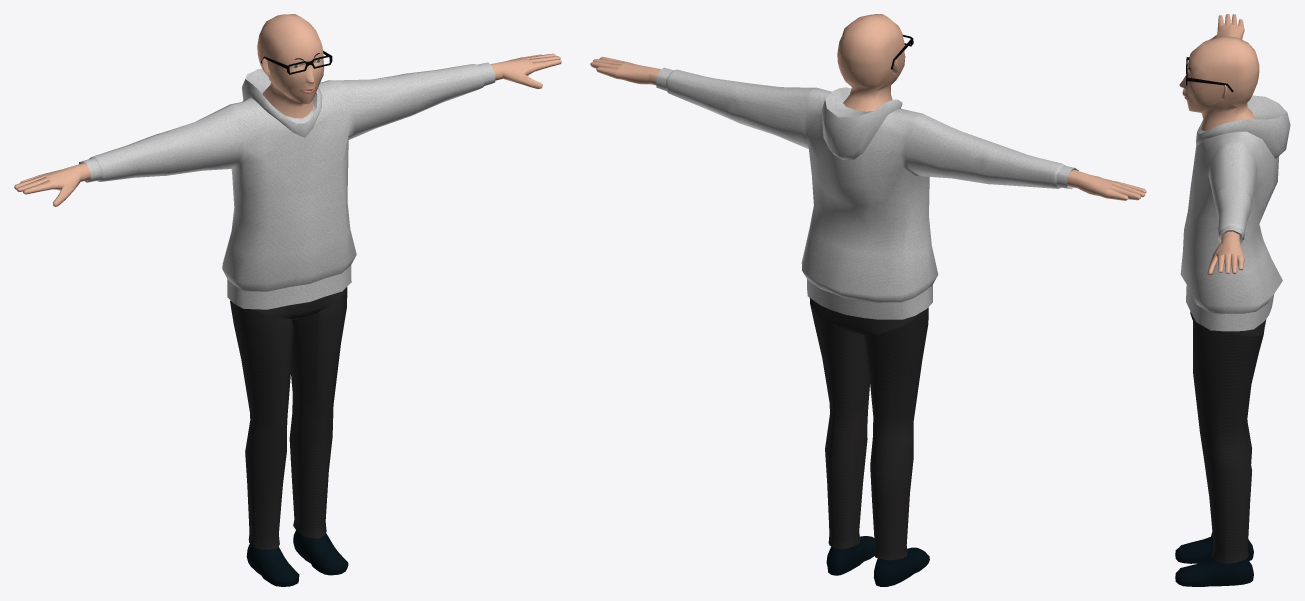
The model's file is human_02.fbx.
3 views of the same model, side by side, from view 1: azimuth 30°, elevation 25°; view 2: azimuth 150°, elevation 25°; view 3: azimuth 270°, elevation 25° (orthographic). The views are drawn at different scales.
Parts seen in each view (by area): view 1: pasted__cloth, pasted__skin; view 2: pasted__cloth, pasted__skin; view 3: pasted__cloth, pasted__skin, pCube7.
Part boxes in pixels (<box>): pasted__cloth: <box>79,62,495,586</box>; pasted__skin: <box>14,14,561,206</box>; pasted__cloth: <box>656,67,1078,586</box>; pasted__skin: <box>590,14,1146,200</box>; pasted__cloth: <box>1175,95,1290,586</box>; pasted__skin: <box>1179,14,1259,275</box>; pCube7: <box>1186,57,1233,92</box>.
Bounding box in the file's own units: 168 × 161 × 31.66.
